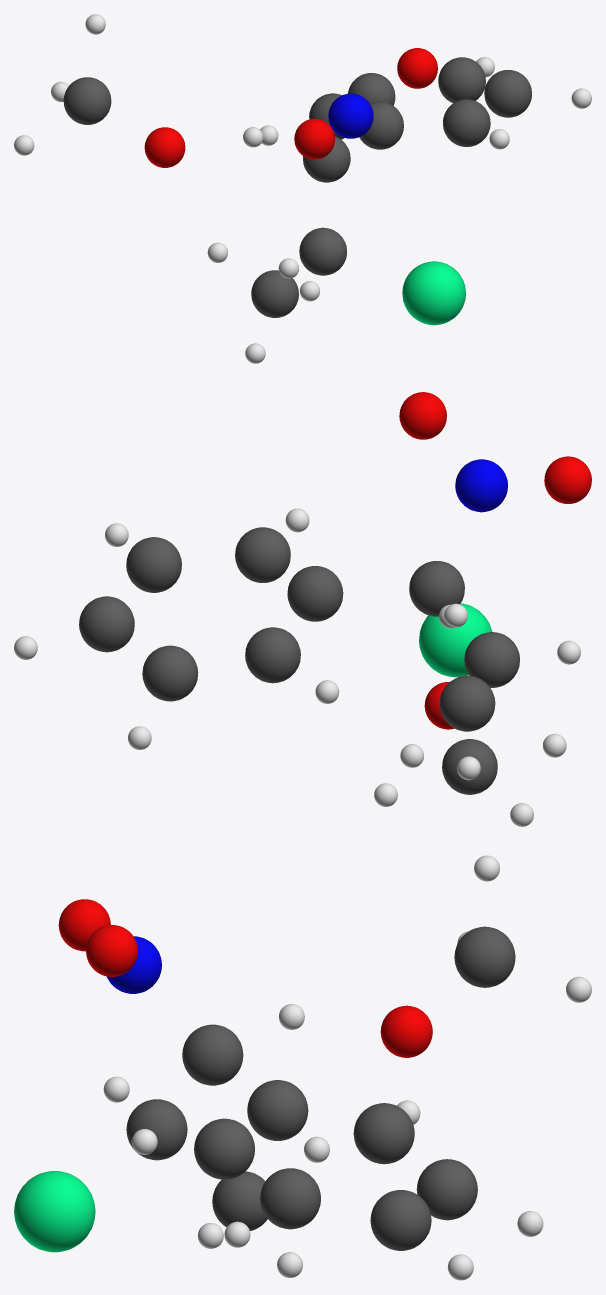
File: E1cb_PhenylChloroNitroPropane.fbx
The picture shows the model from 3 angles, top to bottom: view 1: azimuth 30°, elevation 25°; view 2: azimuth 150°, elevation 25°; view 3: azimuth 270°, elevation 25°; orthographic projection. The views are drawn at different scales.
Visible parts, largest first — view 1: Cl08, C05, C25, C14, C11, C01, C16, N20, C09, O21, O24, O22 (+3 smaller); view 2: Cl08, C16, C09, C10, C12, C25, C11, C14, C05, C07, N20, C01 (+3 smaller); view 3: Cl08, C07, C25, C14, C09, C11, C10, C16, C12, C05, C01, O21 (+10 smaller).
Boxes of the visible parts, <box> form: Cl08: <box>402,261,465,325</box>; C05: <box>299,227,346,275</box>; C25: <box>63,77,111,124</box>; C14: <box>484,70,531,117</box>; C11: <box>443,99,490,146</box>; C01: <box>251,270,298,317</box>; C16: <box>438,57,485,103</box>; N20: <box>328,93,373,138</box>; C09: <box>359,102,403,149</box>; O21: <box>397,48,437,88</box>; O24: <box>144,127,185,167</box>; O22: <box>294,118,334,159</box>; Cl08: <box>419,603,492,677</box>; C16: <box>79,596,134,652</box>; C09: <box>287,566,343,621</box>; C10: <box>245,627,300,683</box>; C12: <box>142,645,198,701</box>; C25: <box>439,675,495,731</box>; C11: <box>235,527,290,582</box>; C14: <box>126,537,181,592</box>; C05: <box>464,632,519,687</box>; C07: <box>409,561,464,616</box>; N20: <box>455,459,507,512</box>; C01: <box>442,739,497,794</box>; Cl08: <box>14,1171,95,1252</box>; C07: <box>182,1024,243,1085</box>; C25: <box>454,926,515,987</box>; C14: <box>260,1168,320,1229</box>; C09: <box>247,1080,308,1140</box>; C11: <box>194,1118,254,1179</box>; C10: <box>353,1103,414,1164</box>; C16: <box>370,1190,431,1250</box>; C12: <box>416,1159,477,1220</box>; C05: <box>126,1099,187,1160</box>; C01: <box>212,1171,267,1230</box>; O21: <box>86,925,137,976</box>.
Bounding box in the file's own units: 875 × 537 × 709.
